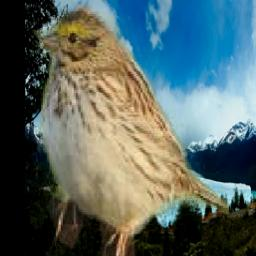Sparrow: (30, 0, 229, 256)
